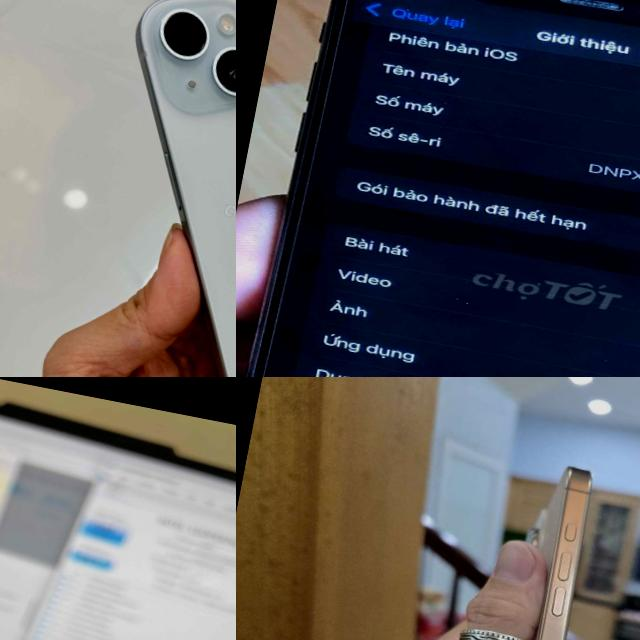gen_15: (55, 0, 236, 377)
gen_16: (448, 452, 640, 640)
gen_x_xs: (246, 0, 640, 377)
